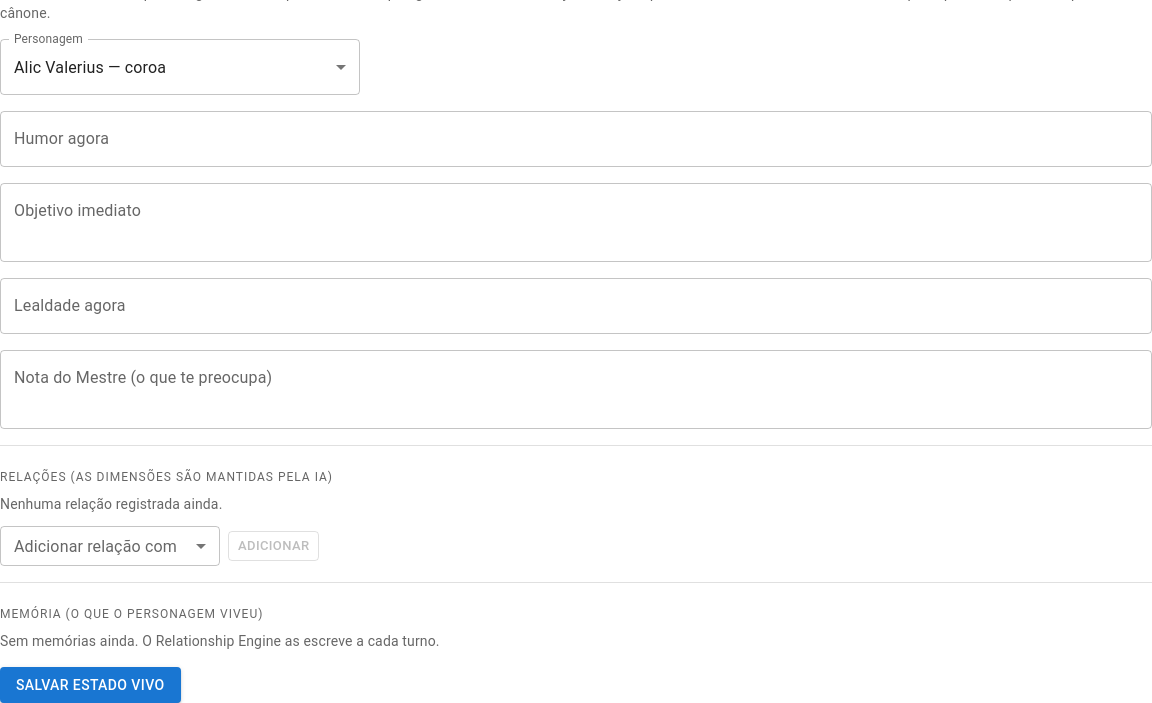
Test: AdminLivingTab › lista os personagens do Codex e salva o estado vivo
This screenshot has width=1152, height=703.
Type "preocupado" into the field labelled "Humor agora" at x=576, y=139, box [0,111,1151,167]
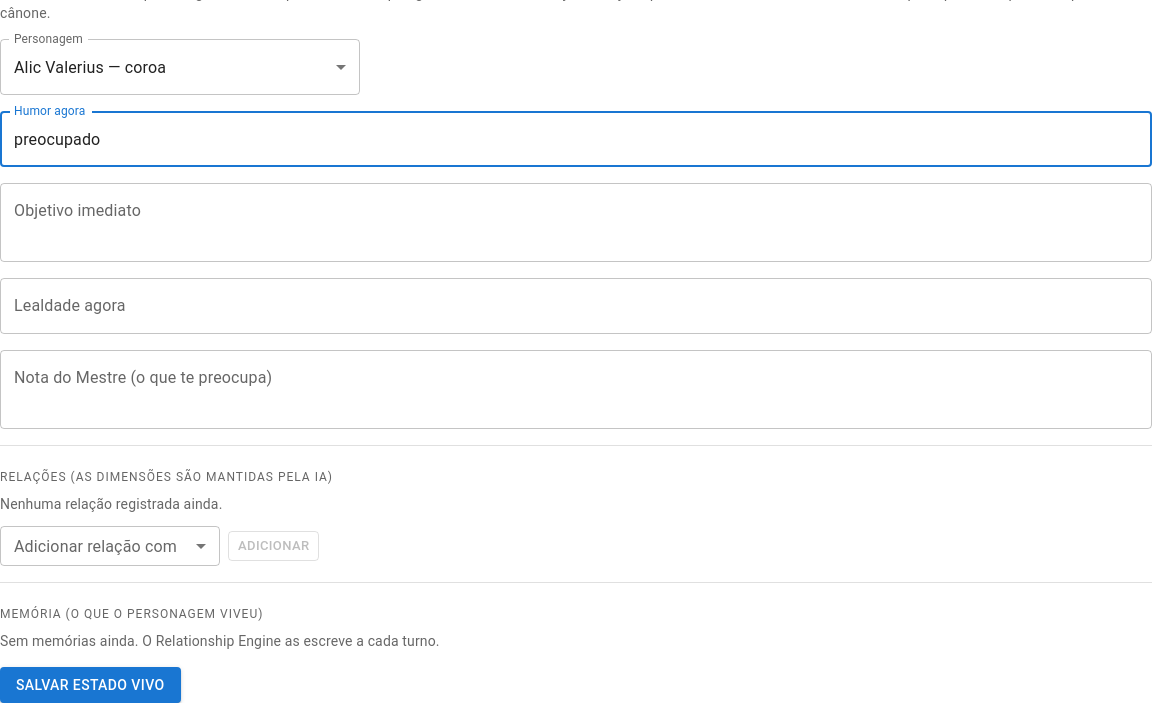
Click the button "Salvar estado vivo" at x=90, y=685, box [0,667,181,702]
(page scrolled)
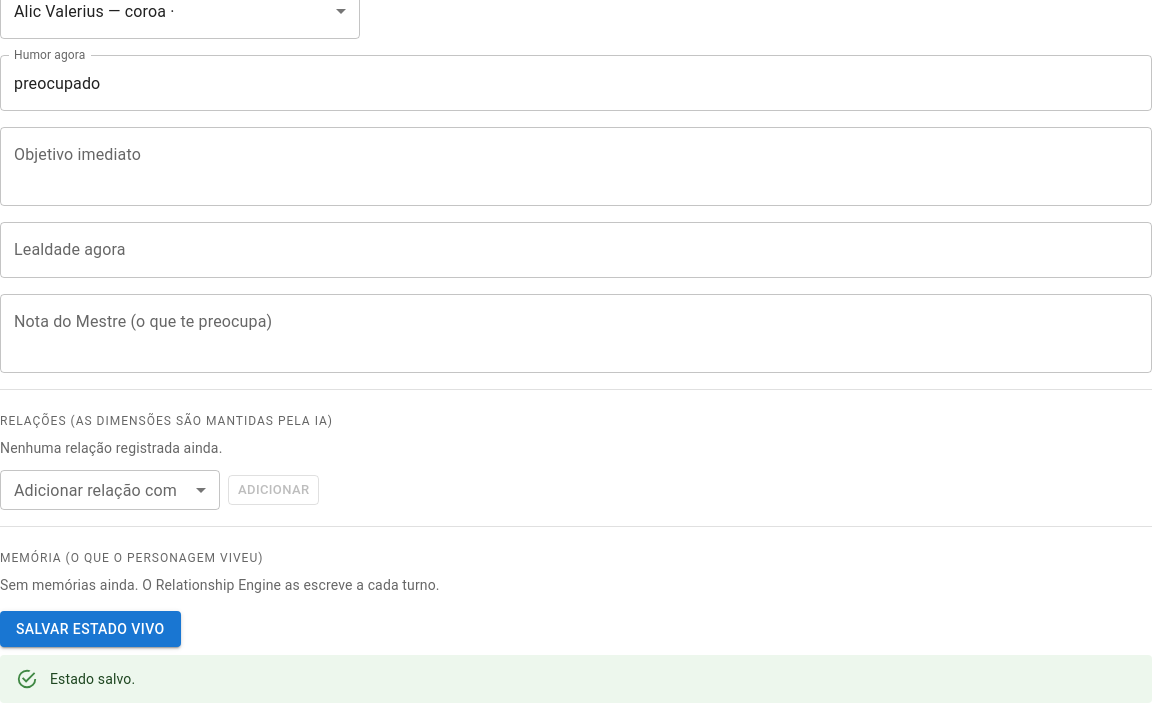
Expected: the text "Estado salvo." is shown, [50,671,135,687]
